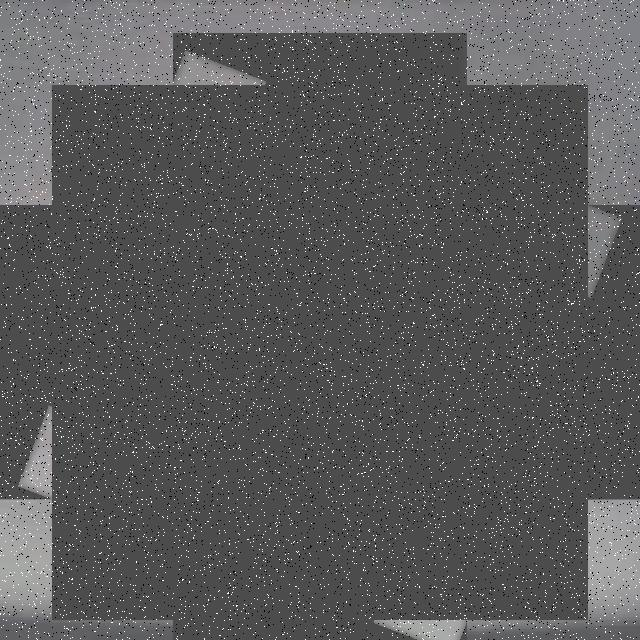dua puluh ribu rupiah: (52, 85, 588, 620)
